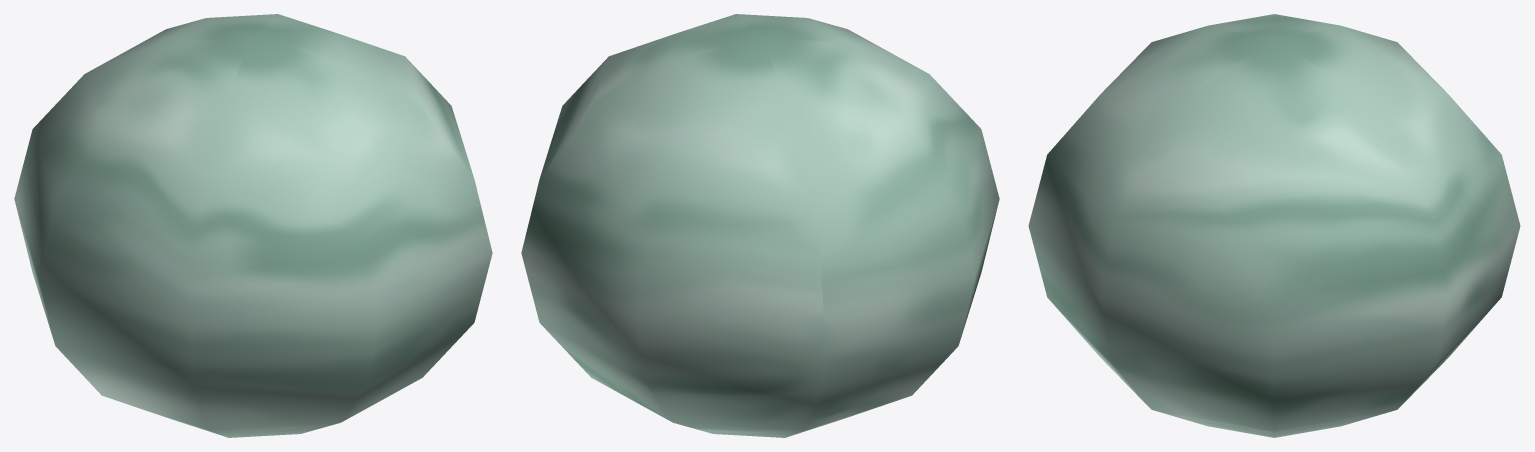
The model's file is planeta_modelo.FBX.
3 views of the same model, side by side, from view 1: azimuth 30°, elevation 25°; view 2: azimuth 150°, elevation 25°; view 3: azimuth 270°, elevation 25° (orthographic).
Visible parts, largest first — view 1: Planetas; view 2: Planetas; view 3: Planetas.
Boxes of the visible parts, x1=… form: Planetas: x1=14, y1=14, x2=492, y2=437; Planetas: x1=521, y1=14, x2=999, y2=437; Planetas: x1=1028, y1=14, x2=1520, y2=437.
Size of the model in its own units: 200 by 167 by 200.
